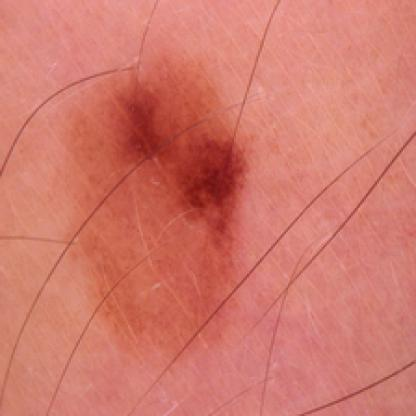benign: (76, 72, 256, 318)
